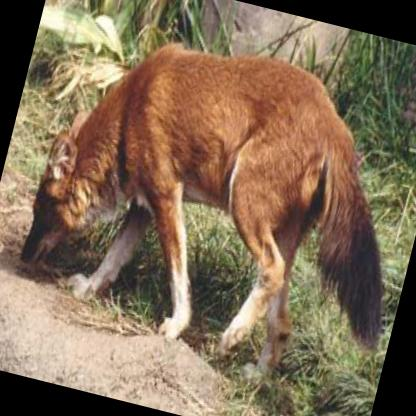dhole: (1, 7, 416, 413)
